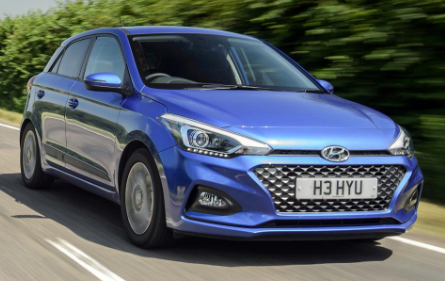car: (18, 25, 426, 254)
